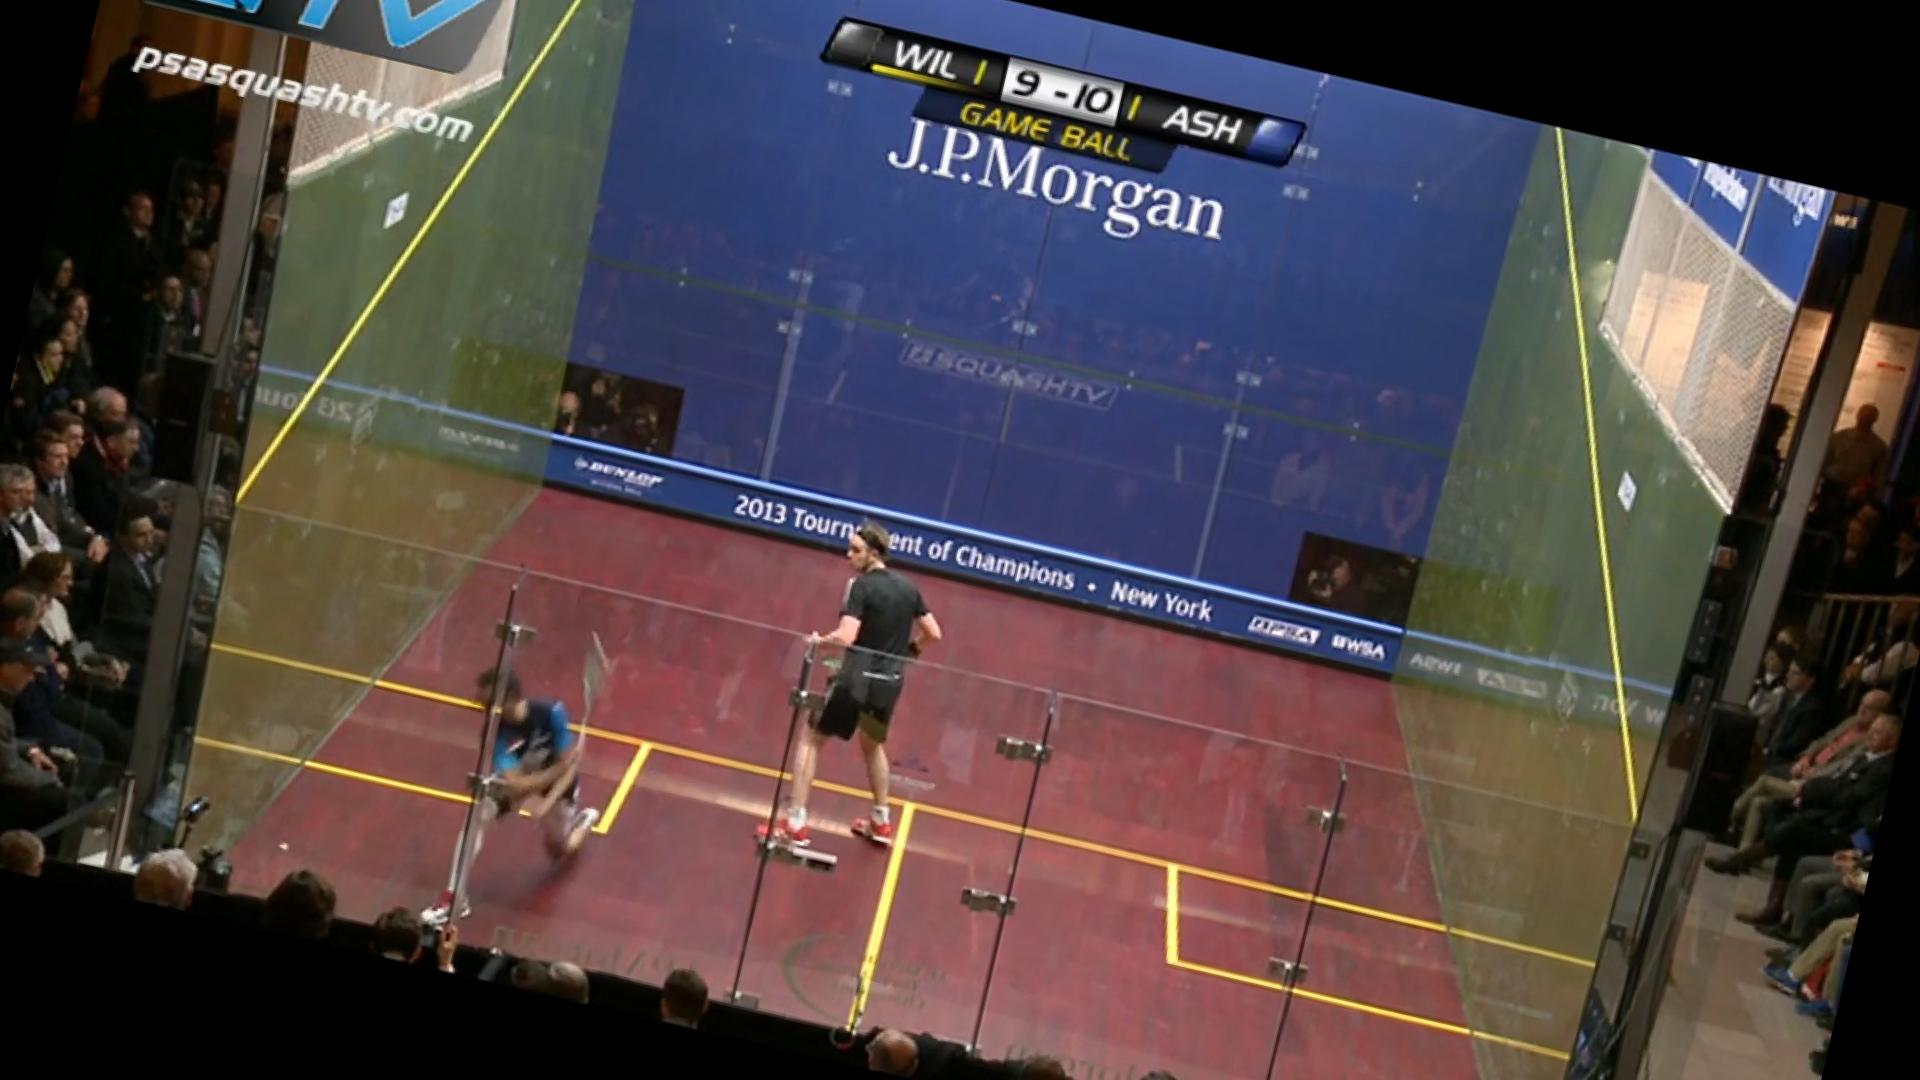Squash-Ball: (255, 818, 309, 872)
